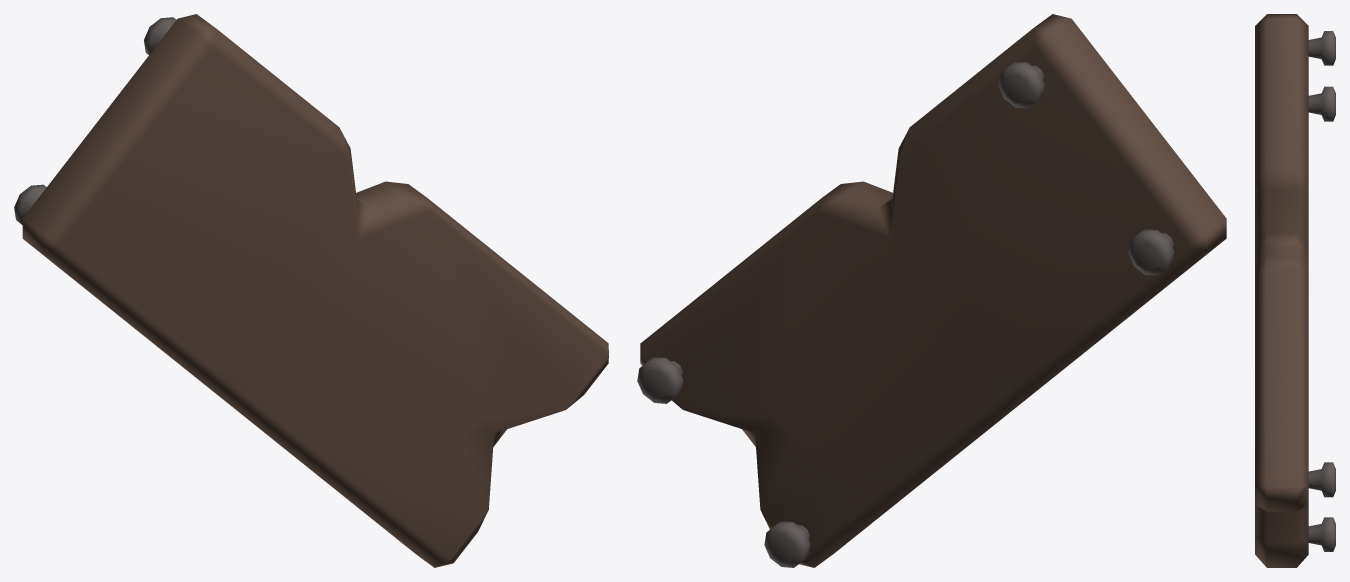
Rendered from Wooden_Board.fbx.
The picture shows the model from 3 angles, left to right: view 1: azimuth 30°, elevation 25°; view 2: azimuth 150°, elevation 25°; view 3: azimuth 270°, elevation 25°; orthographic projection. The views are drawn at different scales.
Visible parts, largest first — view 1: Wooden_Board; view 2: Wooden_Board; view 3: Wooden_Board.
Boxes of the visible parts, box(x1,y1,x2,y2) form: Wooden_Board: box(14, 14, 608, 567); Wooden_Board: box(637, 14, 1226, 567); Wooden_Board: box(1255, 14, 1335, 567).
Size of the model in its own units: 84.3 by 84.3 by 13.5.
